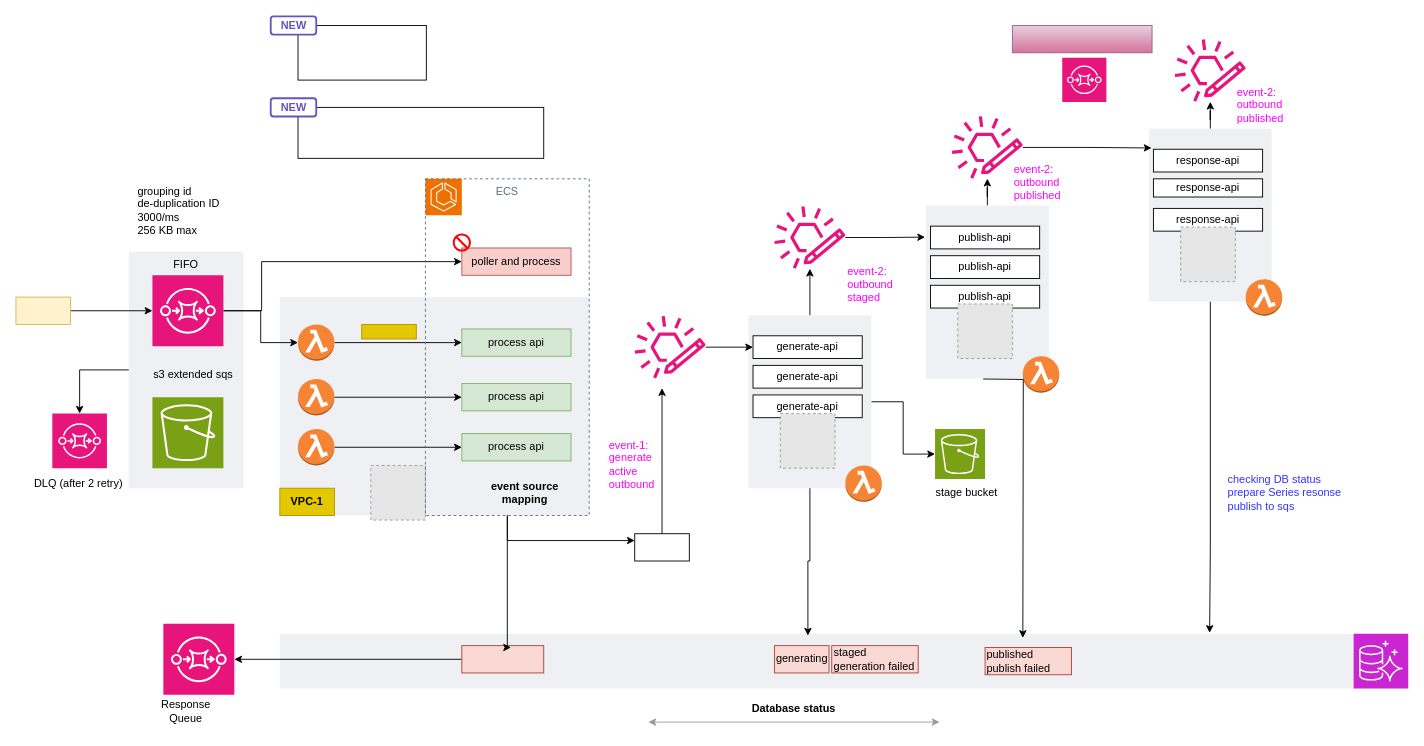
Image size: 1424x746. Some labels were removed from this diagram. Grey dashed boxes stand in for pictures. The shapes that lost their labels are listed below. From the top down, each one's centre as x and y in pixels, then its label:
At (x=361, y=52): "async call destination -1(success) destination -2 (failure)".
At (x=1081, y=39): "sequentially process event with FIFO queue".
At (x=420, y=132): "use http over https allow traffic from sg of lamda to sg of pods".
At (x=43, y=310): "up-stream app".
At (x=388, y=331): "http/s".
At (x=661, y=547): "bucket complete".
At (x=502, y=659): "stage request staging failed".
